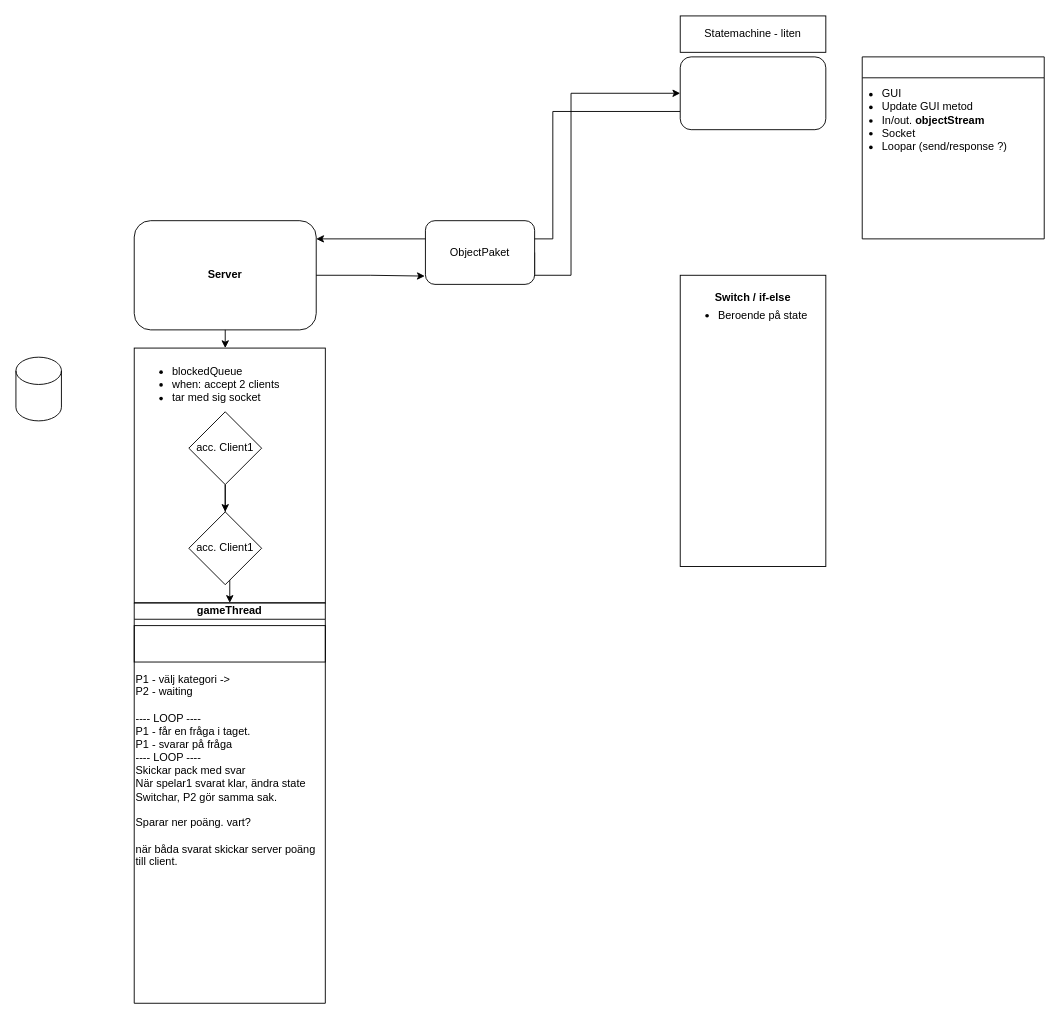
Some shapes in this 1060 by 1019 pixel diagram are drawn without their labels. The shapes that lost their labels are listed below. From the top down, each one's box as (x1, y1, x2, y2) in pixels, then its label:
(679, 56, 826, 130): Client: lyssnar, på states?
(861, 56, 1044, 239): Client
(15, 356, 61, 421): DB
(133, 625, 325, 662): Statemachine - stor
